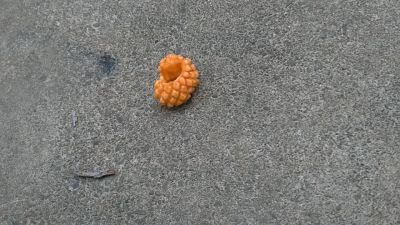eggs: (153, 53, 201, 109)
